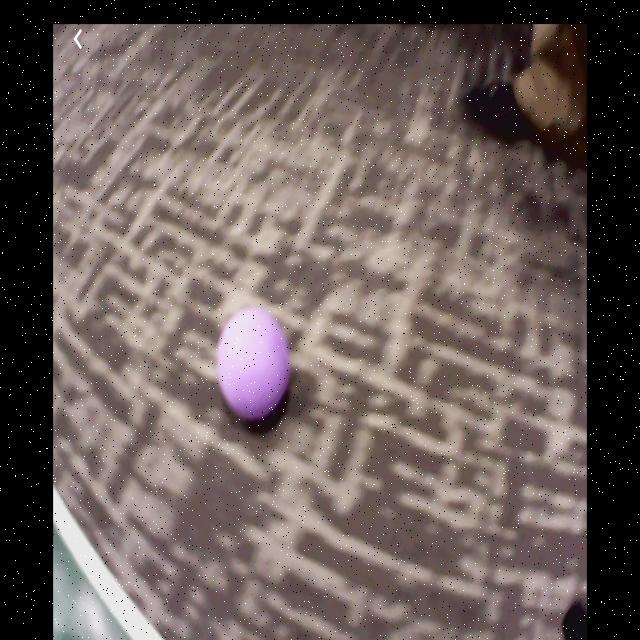ball: (221, 309, 290, 420)
